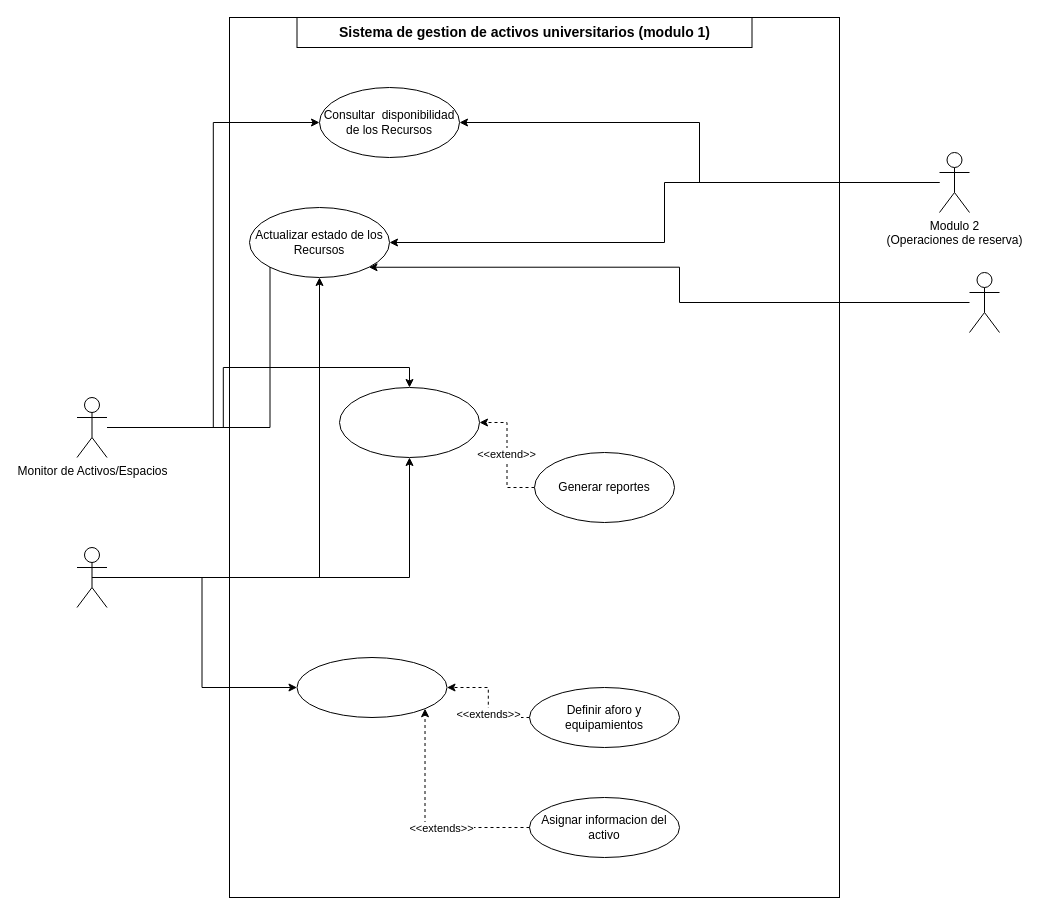
The diagram is 1045 pixels wide and 915 high, and some of its shapes have lost their labels. The shapes that lost their labels are listed below. From the top down, each one's centre as x and y in pixels, then its label:
(984,302): Modulo 3 (Control de uso)
(409,422): Consultar inventarios
(91,577): Direccion Universitaria
(371,687): Crear Recurso
